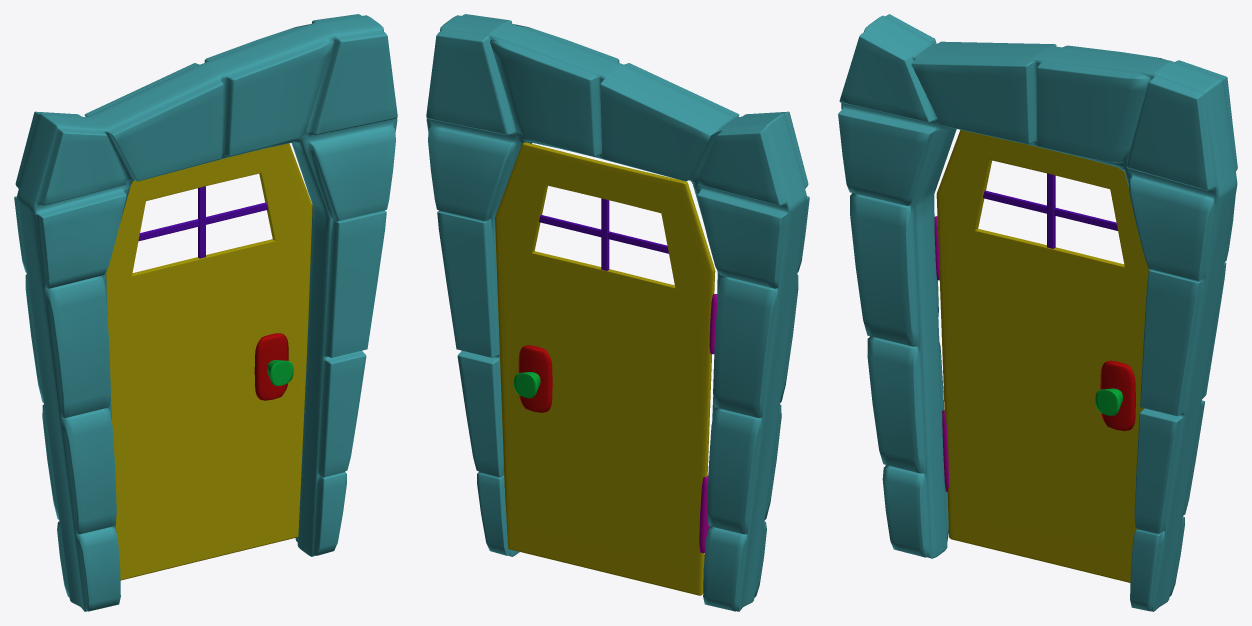
Rendered from Door.fbx.
The picture shows the model from 3 angles, left to right: view 1: azimuth 30°, elevation 25°; view 2: azimuth 150°, elevation 25°; view 3: azimuth 330°, elevation 25°; orthographic projection. The views are drawn at different scales.
Parts seen in each view (by area): view 1: arches, thedore, knob_plate_front, window3, knob_front; view 2: arches, thedore, window3, knob_plate_back, hinges, knob_back; view 3: arches, thedore, window3, knob_plate_front, hinges, knob_front.
Part boxes in pixels (<box>): arches: <box>14,14,397,611</box>; thedore: <box>106,143,312,580</box>; knob_plate_front: <box>254,333,288,400</box>; window3: <box>138,186,268,258</box>; knob_front: <box>267,360,293,385</box>; arches: <box>426,14,809,611</box>; thedore: <box>495,142,715,595</box>; window3: <box>539,198,668,270</box>; knob_plate_back: <box>518,345,552,412</box>; hinges: <box>699,294,717,553</box>; knob_back: <box>513,372,540,398</box>; arches: <box>838,14,1237,611</box>; thedore: <box>936,130,1149,582</box>; window3: <box>983,173,1117,248</box>; knob_plate_front: <box>1100,360,1135,430</box>; hinges: <box>934,216,948,492</box>; knob_front: <box>1095,388,1123,415</box>.
Bounding box in the file's own units: 214 × 291 × 36.79.
